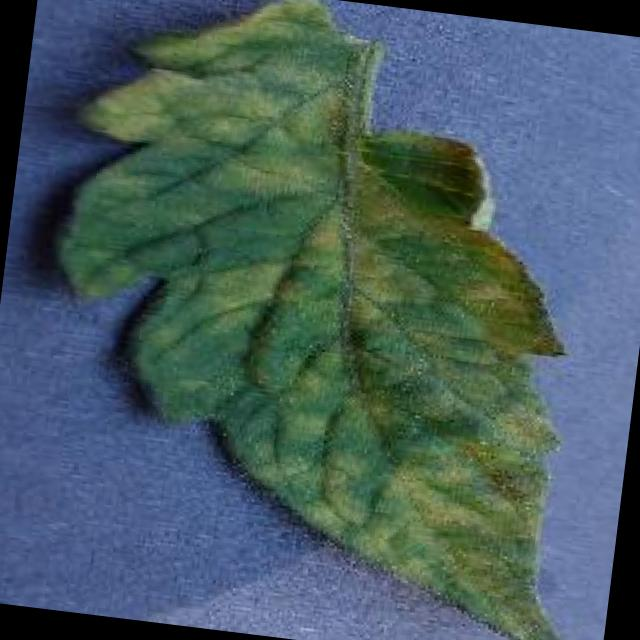leaf mold: (49, 0, 566, 640)
